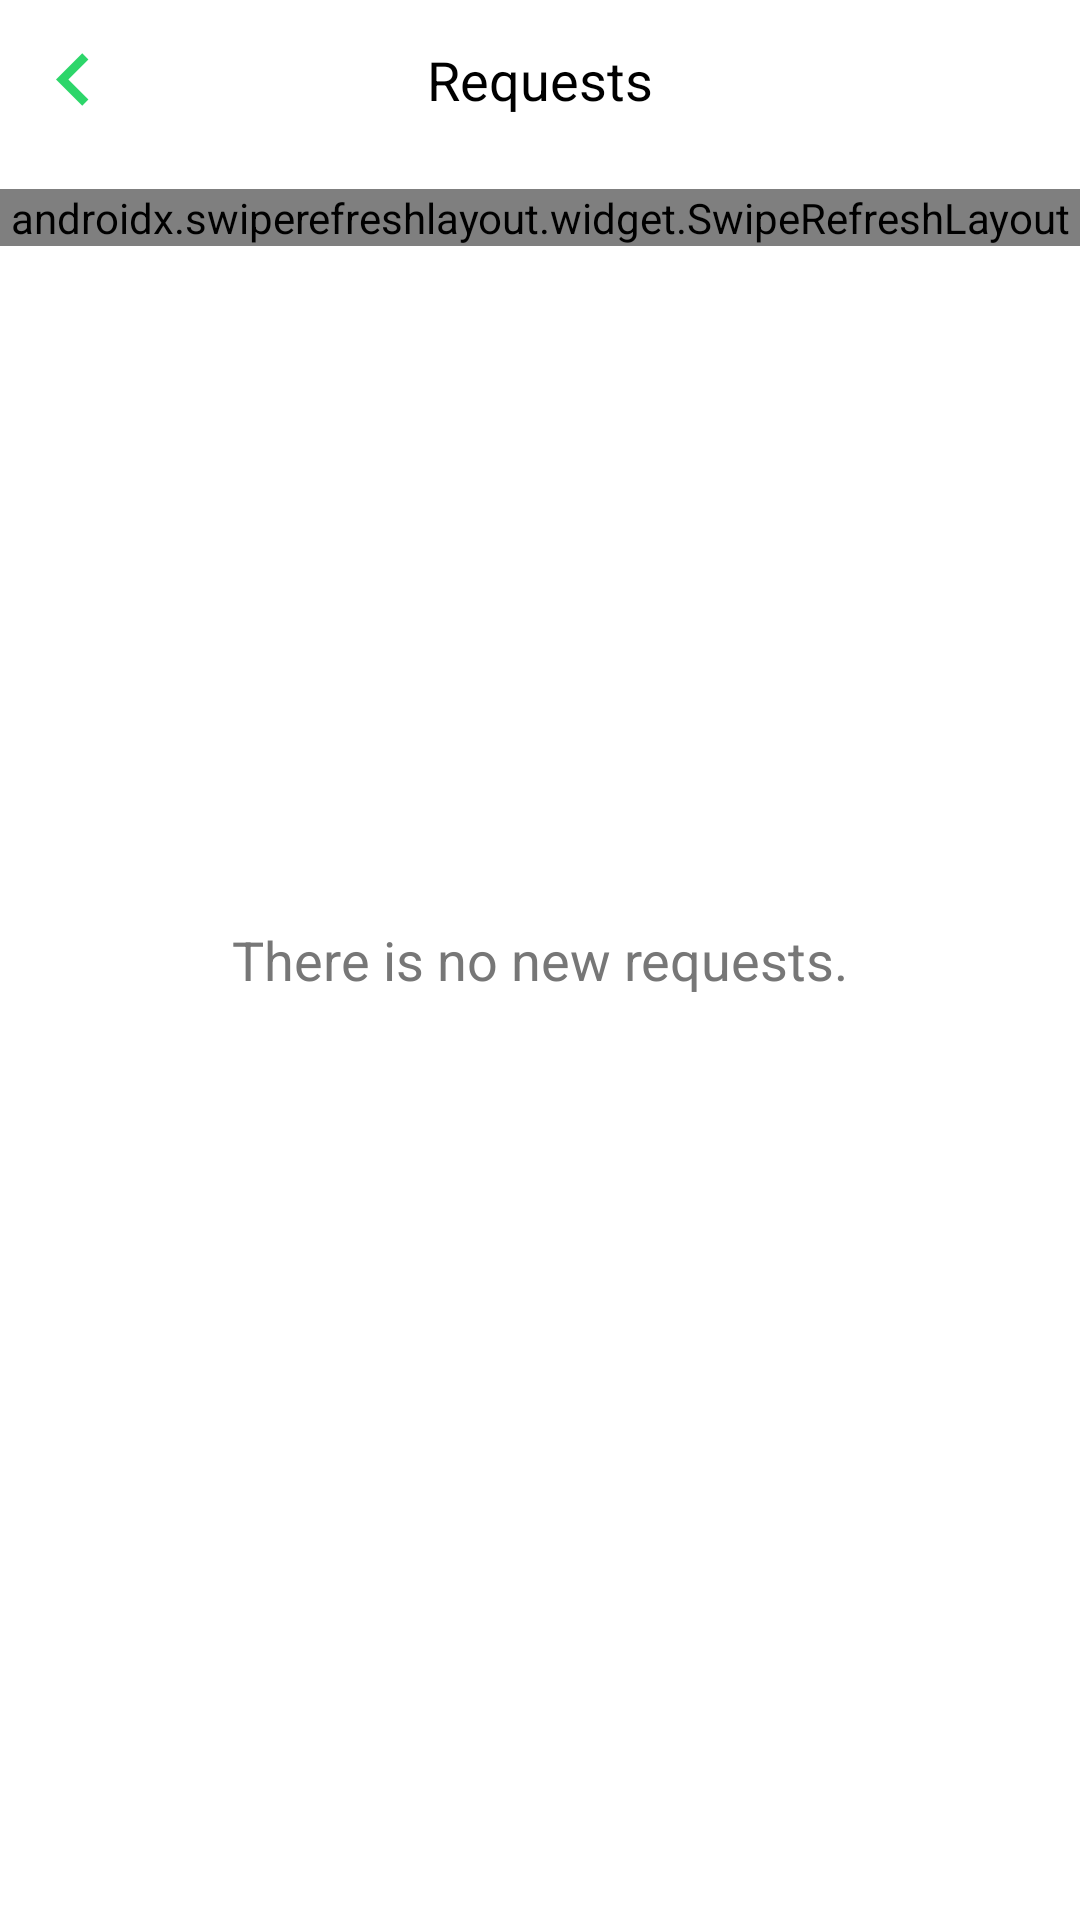

Named icons in this screenshot (1080px×1920px) and their centers, (x=x, y=y):
keyboard arrow left: (x=72, y=79)
